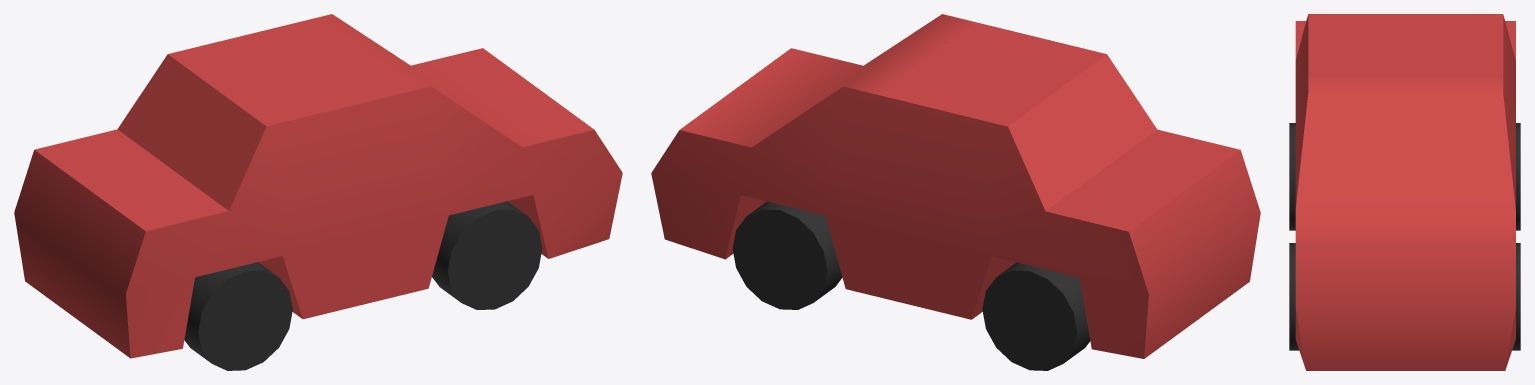
File: Car.glb
3 renders of one model, left to right at view 1: azimuth 30°, elevation 25°; view 2: azimuth 150°, elevation 25°; view 3: azimuth 270°, elevation 25°, orthographic.
Visible parts, largest first — view 1: Box001, Box001.001, Box001.002; view 2: Box001, Box001.003, Box001.004; view 3: Box001, Box001.002, Box001.001, Box001.004, Box001.003.
Part boxes in pixels (x1,y1,x2,y2): Box001: (14,14,622,358); Box001.001: (184,262,292,370); Box001.002: (432,201,542,309); Box001: (651,14,1260,358); Box001.003: (982,262,1090,370); Box001.004: (732,201,842,309); Box001: (1295,14,1515,370); Box001.002: (1289,243,1299,350); Box001.001: (1289,123,1295,230); Box001.004: (1512,243,1520,350); Box001.003: (1516,123,1520,230).
Size of the model in its own units: 5.25 by 2.32 by 2.14.
